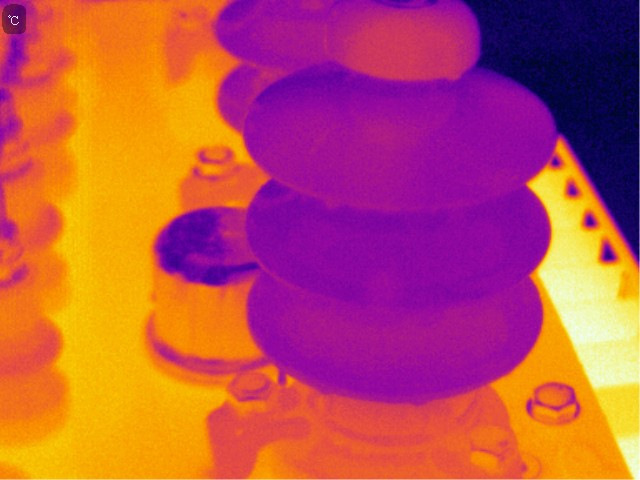Oil: (328, 7, 474, 81), (283, 111, 336, 159), (351, 114, 413, 155), (274, 182, 305, 209), (273, 363, 294, 388), (320, 193, 343, 212), (405, 394, 431, 407), (315, 384, 338, 396)
